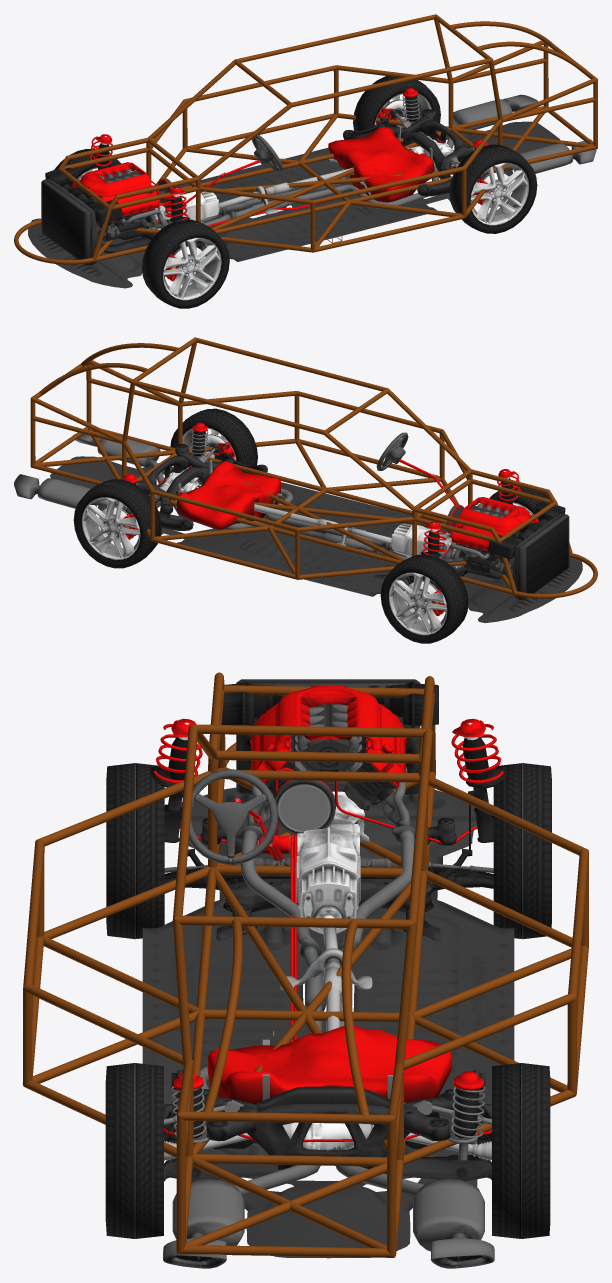
File: Car Model.glb
3 renders of one model, top to bottom at view 1: azimuth 30°, elevation 25°; view 2: azimuth 150°, elevation 25°; view 3: azimuth 270°, elevation 25°, orthographic. The views are drawn at different scales.
Parts seen in each view (by area): view 1: Object_2, Chelun, DiPan, XuanguaXitong, PaiQiGuan, OilTank, Fadongji, SanReQi, ShaChe, ChuanDongZhou, BianSuQi, Zhaungxiang; view 2: Object_2, Chelun, DiPan, XuanguaXitong, PaiQiGuan, Fadongji, OilTank, SanReQi, ChuanDongZhou, ShaChe, BianSuQi, Zhaungxiang; view 3: Object_2, DiPan, Chelun, XuanguaXitong, PaiQiGuan, Fadongji, OilTank, BianSuQi, Zhaungxiang, ChuanDongZhou, ShaChe, SanReQi.
Boxes of the visible parts, bbox=[...] form: Object_2: bbox=[14, 14, 597, 264]; Chelun: bbox=[54, 76, 537, 308]; DiPan: bbox=[28, 121, 559, 288]; XuanguaXitong: bbox=[90, 88, 488, 254]; PaiQiGuan: bbox=[121, 94, 596, 228]; OilTank: bbox=[328, 125, 434, 202]; Fadongji: bbox=[45, 162, 160, 241]; SanReQi: bbox=[41, 178, 97, 265]; ShaChe: bbox=[77, 99, 511, 284]; ChuanDongZhou: bbox=[219, 116, 458, 214]; BianSuQi: bbox=[148, 191, 219, 229]; Zhaungxiang: bbox=[158, 134, 282, 222]; Object_2: bbox=[30, 337, 597, 598]; Chelun: bbox=[73, 408, 549, 643]; DiPan: bbox=[50, 456, 582, 622]; XuanguaXitong: bbox=[122, 422, 520, 588]; PaiQiGuan: bbox=[14, 431, 489, 563]; Fadongji: bbox=[450, 497, 565, 575]; OilTank: bbox=[177, 460, 282, 529]; SanReQi: bbox=[512, 513, 569, 600]; ChuanDongZhou: bbox=[132, 451, 391, 545]; ShaChe: bbox=[99, 434, 533, 619]; BianSuQi: bbox=[391, 523, 462, 568]; Zhaungxiang: bbox=[376, 432, 457, 504]; Object_2: bbox=[22, 672, 589, 1257]; DiPan: bbox=[142, 787, 514, 1258]; Chelun: bbox=[105, 763, 551, 1238]; XuanguaXitong: bbox=[150, 718, 506, 1181]; PaiQiGuan: bbox=[163, 767, 494, 1268]; Fadongji: bbox=[221, 681, 438, 838]; OilTank: bbox=[207, 1025, 452, 1103]; BianSuQi: bbox=[289, 791, 369, 933]; Zhaungxiang: bbox=[164, 769, 493, 872]; ChuanDongZhou: bbox=[164, 927, 491, 1160]; ShaChe: bbox=[164, 767, 491, 1142]; SanReQi: bbox=[236, 679, 420, 794].
Bounding box in the file's own units: 518 × 147 × 234.
Materials: 31 (26 with a texture image).
